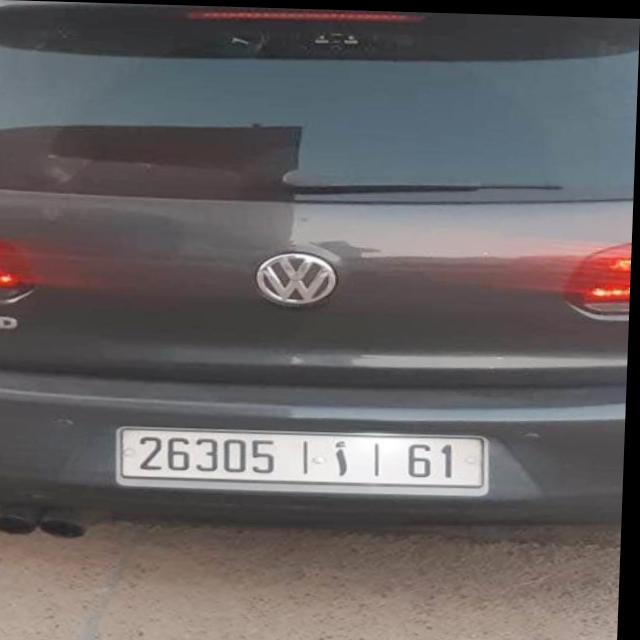License-Plate: (121, 427, 493, 492)
